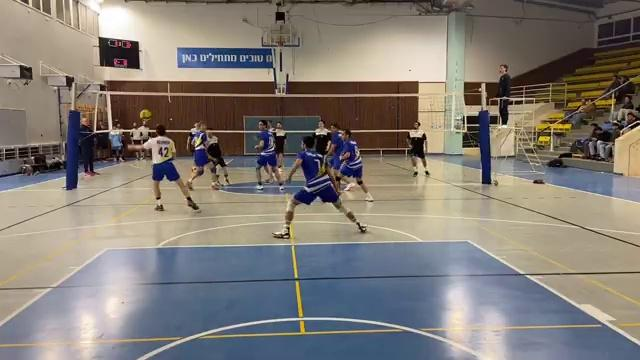ball: (139, 106, 153, 123)
